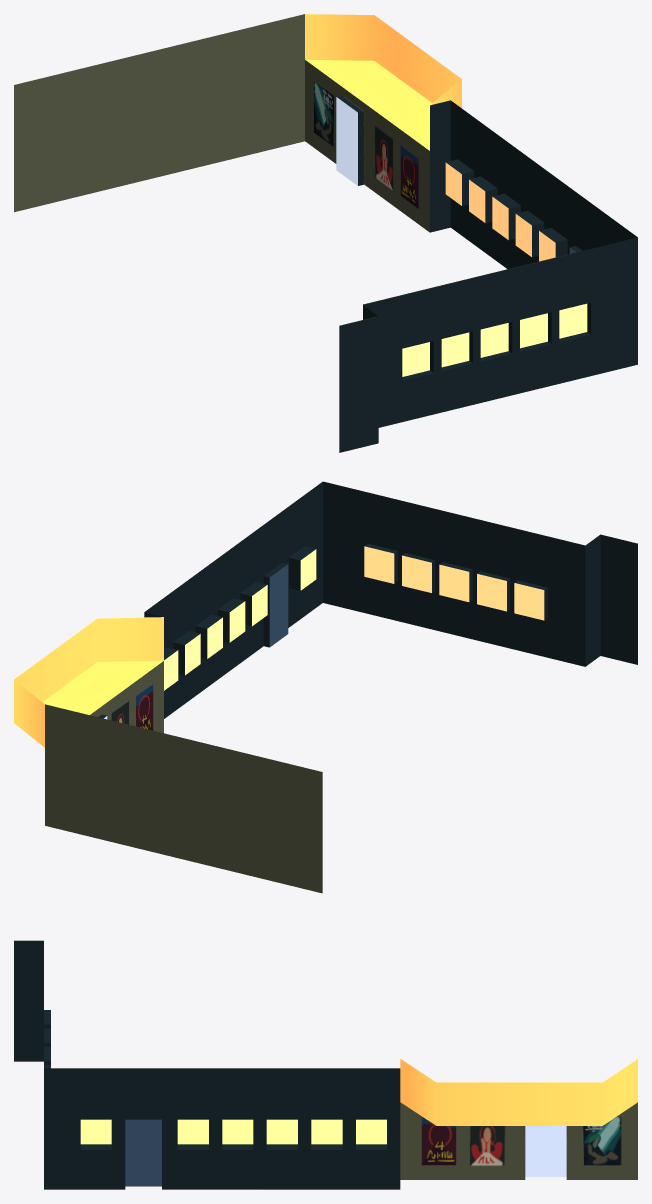
3 views of the same model, one above another, from view 1: azimuth 30°, elevation 25°; view 2: azimuth 150°, elevation 25°; view 3: azimuth 270°, elevation 25° (orthographic). The views are drawn at different scales.
Parts seen in each view (by area): view 1: buildings_tile_Da, luces_tile_Da; view 2: buildings_tile_Da, luces_tile_Da; view 3: buildings_tile_Da, luces_tile_Da.
Boxes of the visible parts, <box> form: buildings_tile_Da: <box>14,14,637,452</box>; luces_tile_Da: <box>305,14,587,376</box>; buildings_tile_Da: <box>45,481,637,893</box>; luces_tile_Da: <box>14,546,544,747</box>; buildings_tile_Da: <box>14,940,637,1189</box>; luces_tile_Da: <box>80,1059,637,1186</box>.
Bounding box in the file's own units: 16.57 × 5.85 × 27.32.
